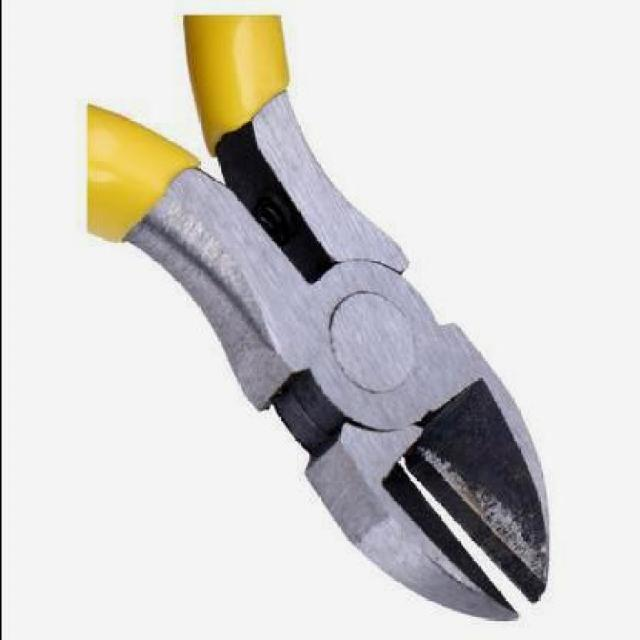pliers: (81, 16, 562, 626)
